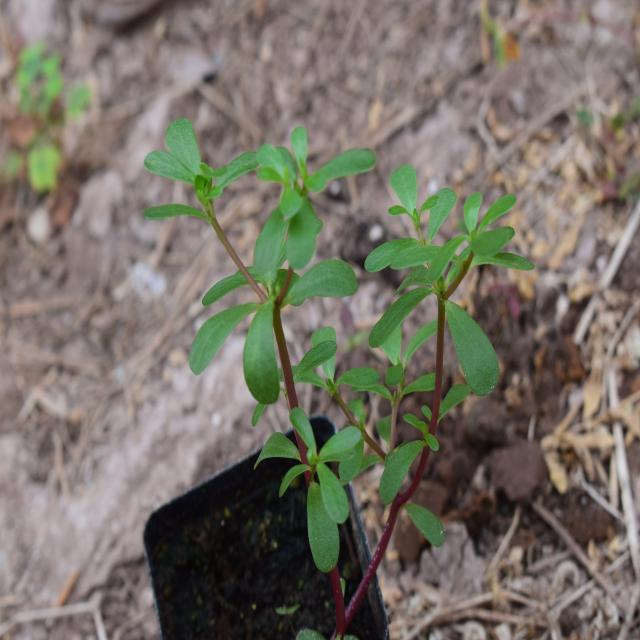purslane: (125, 105, 527, 616)
